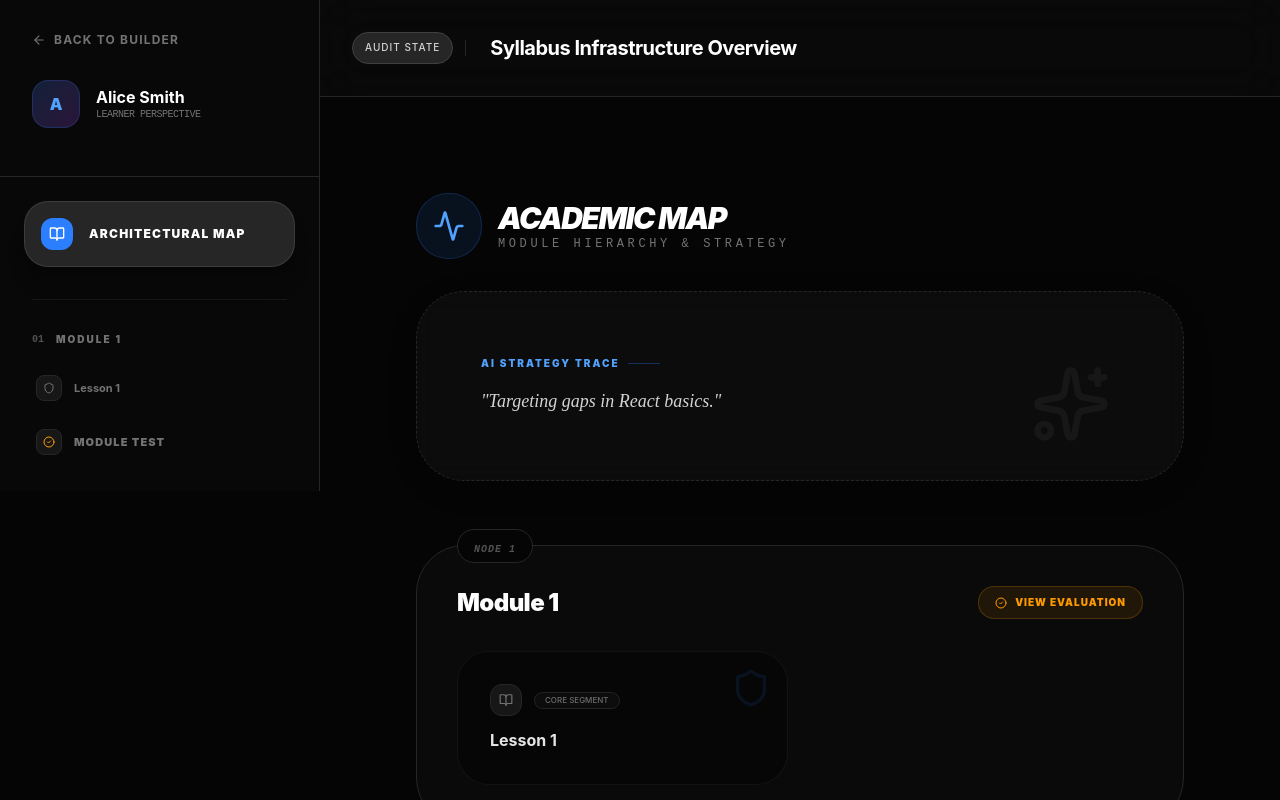
Test: CandidatePerspective Component › switches to lesson view on sidebar click
What coordinates should you click on to do the following:
click the button "Lesson 1"
I would click on:
 (97, 388)
Its box is [24,363,295,413].
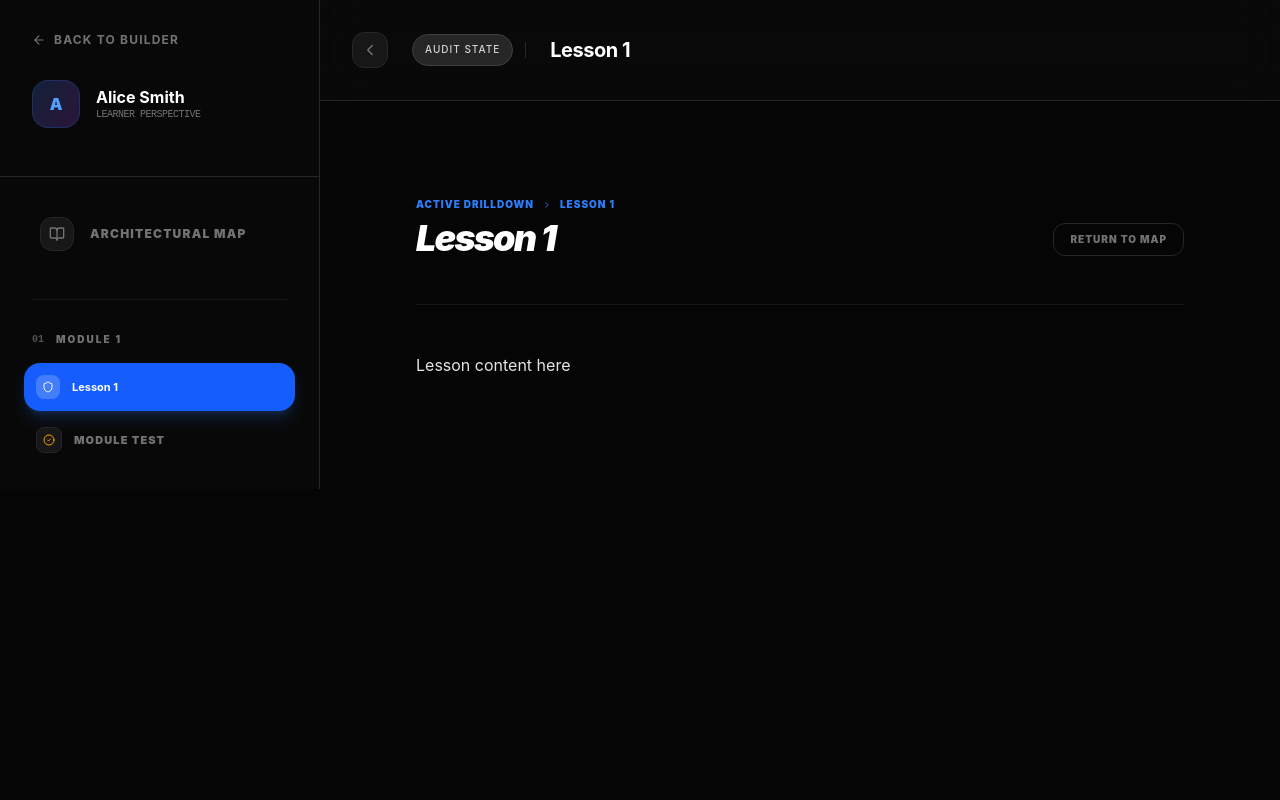
Expected: the text "Lesson 1" is shown, [72,379,118,395]
Now the text "Lesson content here" is shown, box [416,355,570,375]
